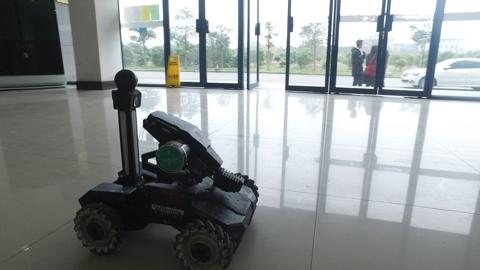chariot: (71, 63, 267, 268)
